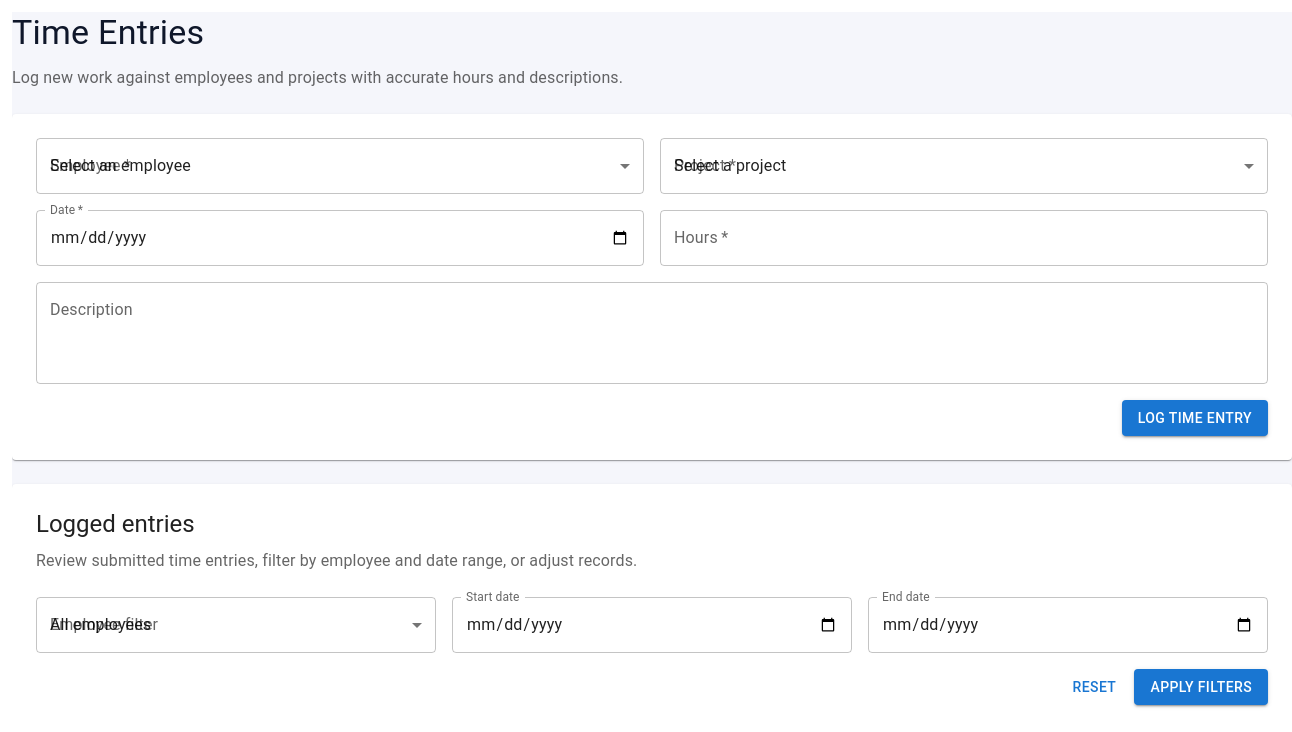
Test case: TimeEntriesPage › submits a new time entry, resets the form, and refreshes the table
Select "Avery Stone" in the dropdown named "employeeId" at {"x": 340, "y": 166}, box [36,138,644,194]
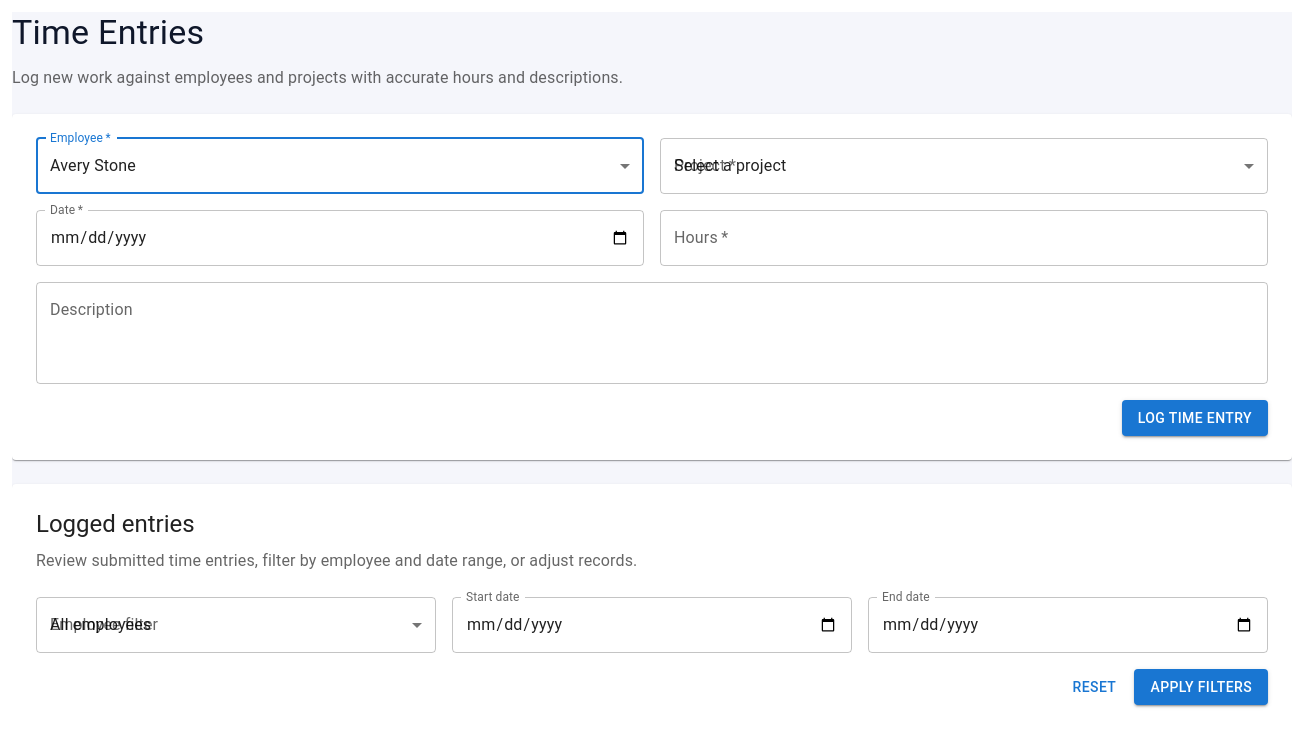
Select "Atlas Payroll" in the dropdown named "projectId" at {"x": 964, "y": 166}, box [660,138,1268,194]
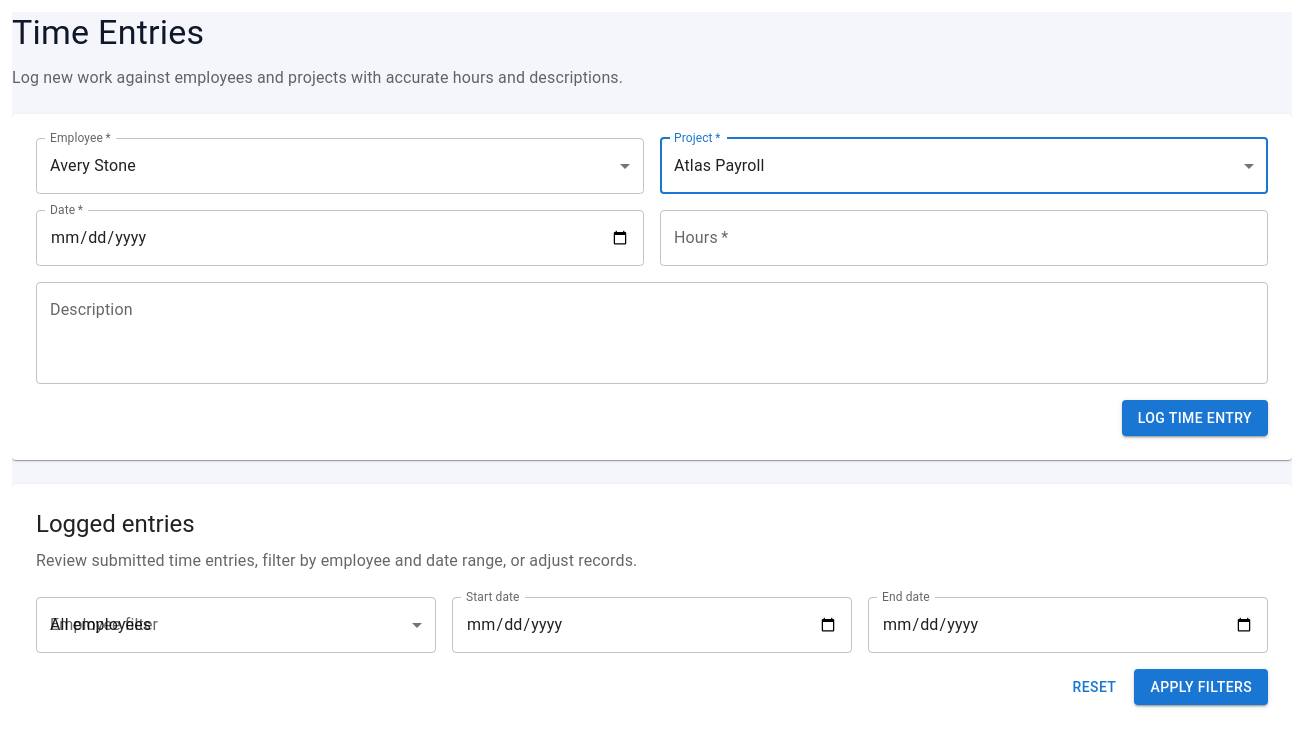
Type "2024-11-05" into the date field named "date".
click(340, 238); type("2024-11-05")  # box [36,210,644,266]
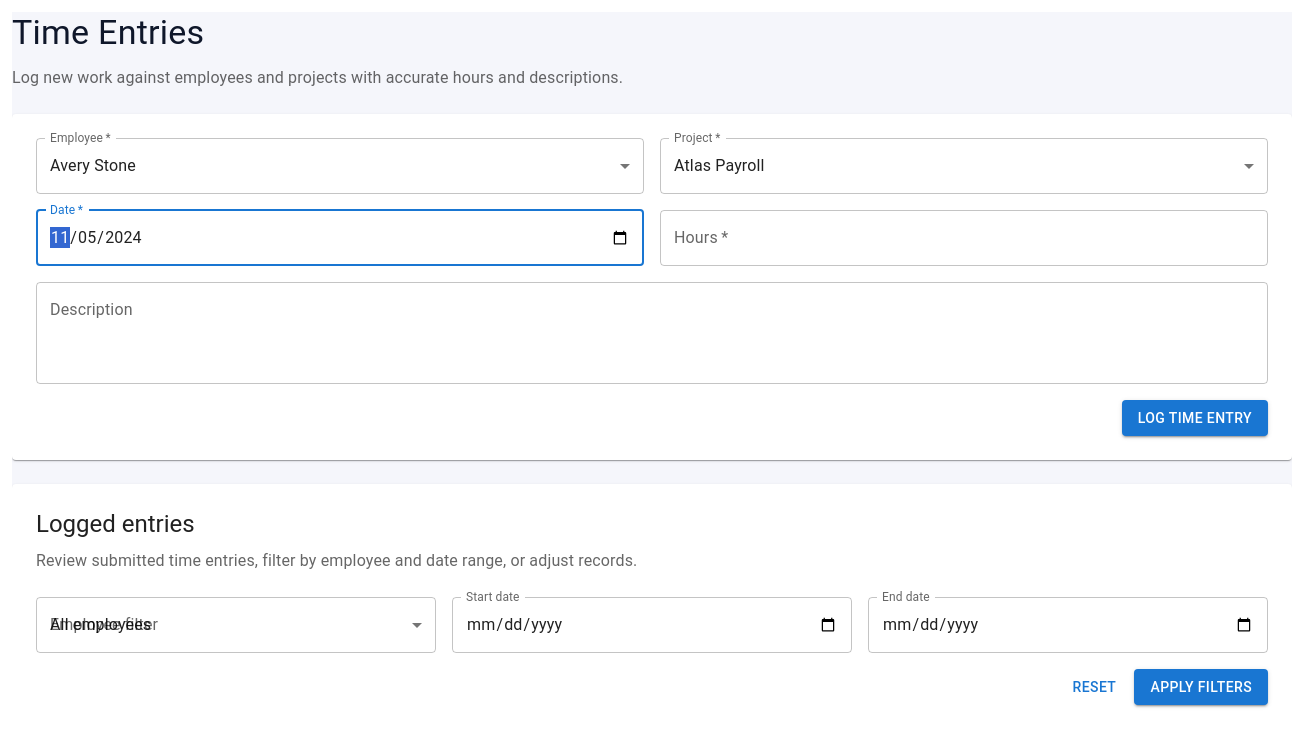
Type "4" into the number field named "hours".
click(964, 238); type("4")  # box [660,210,1268,266]
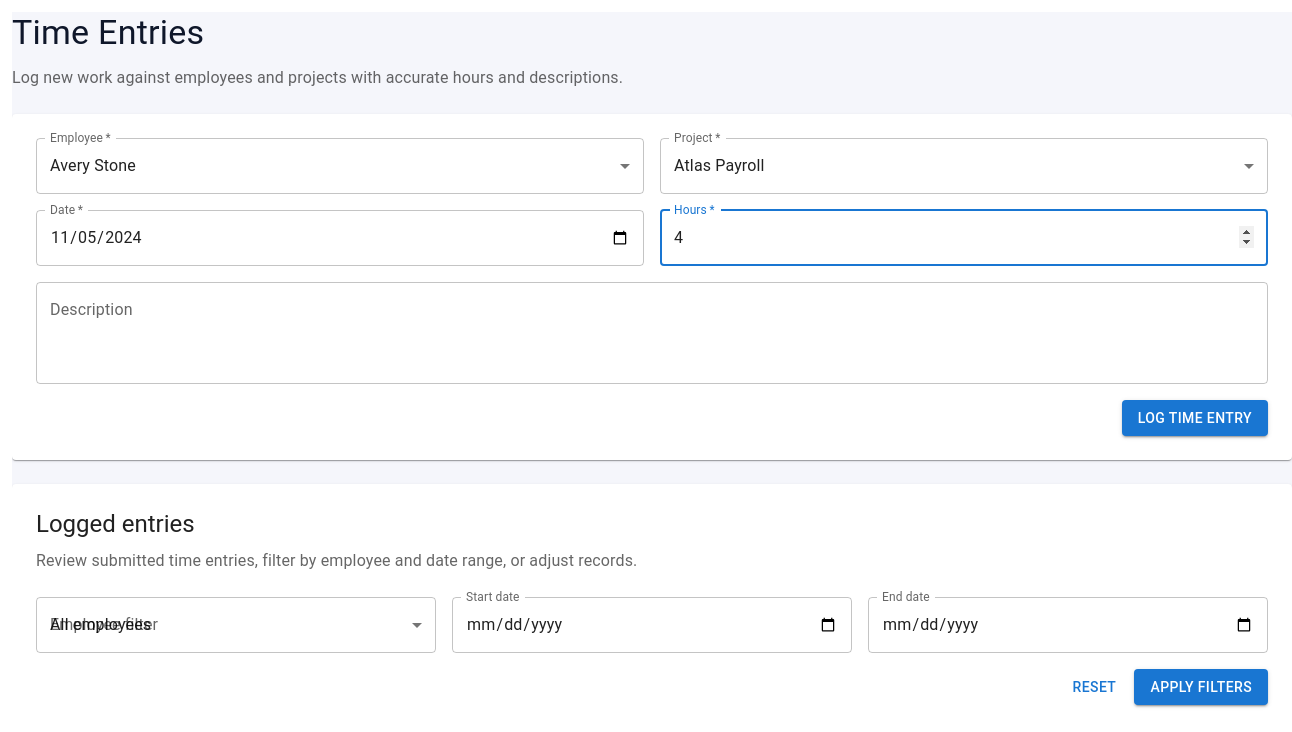
Type "Feature work" into the text box named "description".
click(652, 333); type("Feature work")  # box [50,298,1254,367]
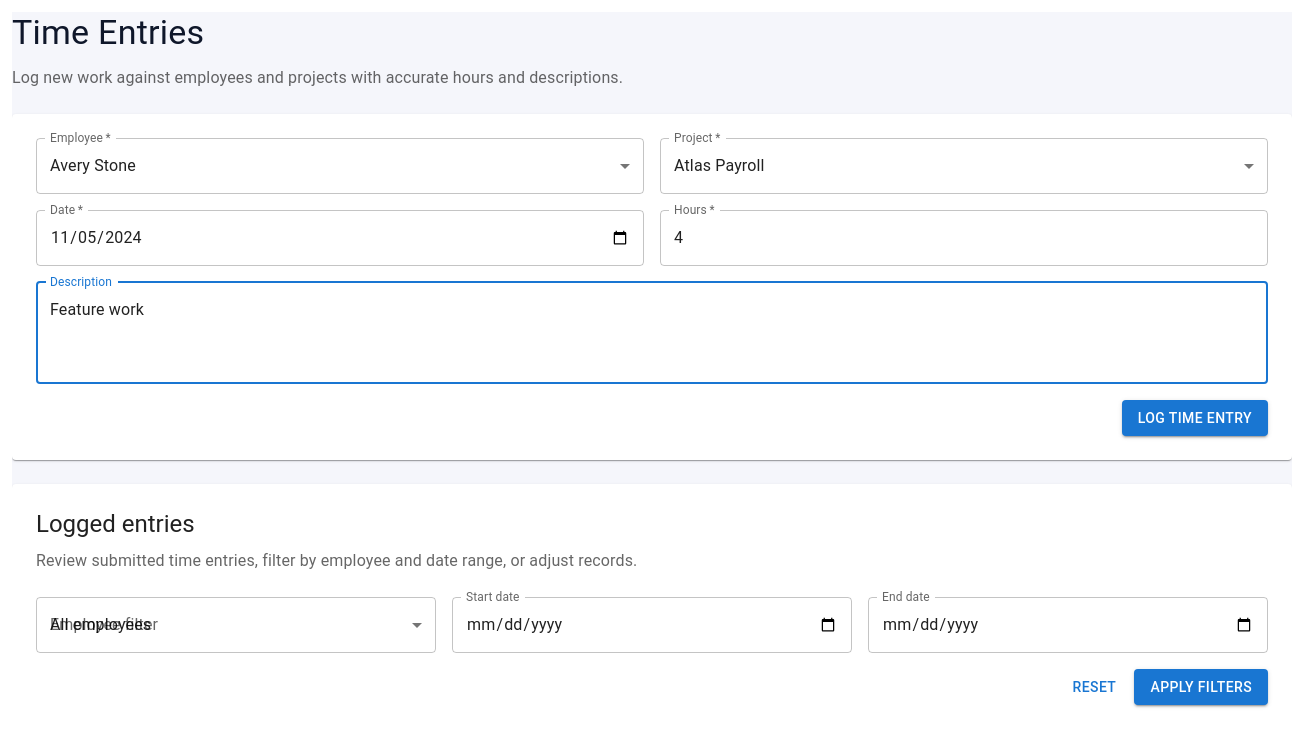
Click the button "Log time entry".
click(1195, 418)  # box [1122,400,1268,436]
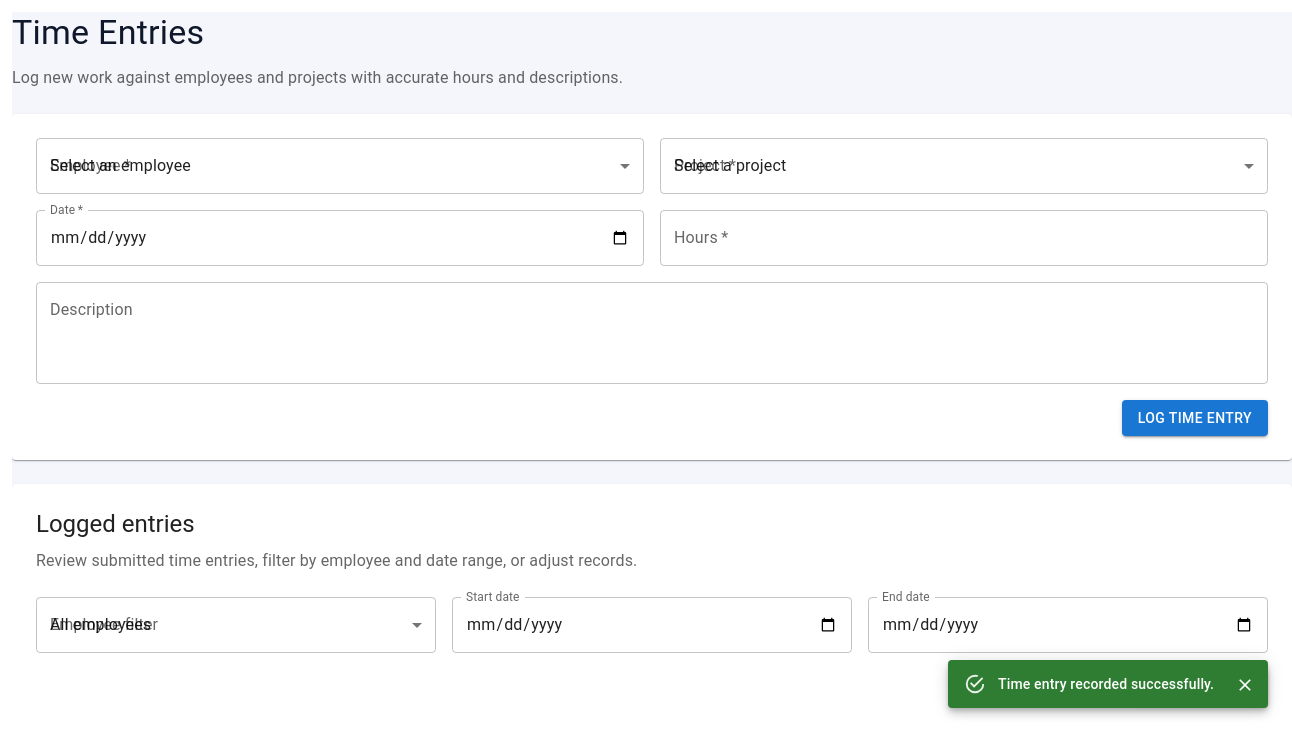
Check: the text "Time entry recorded successfully." is shown, box [998,676,1214,692]
Check: the date field named "date" is empty, box [36,210,644,266]
Check: the number field named "hours" is empty, box [660,210,1268,266]
